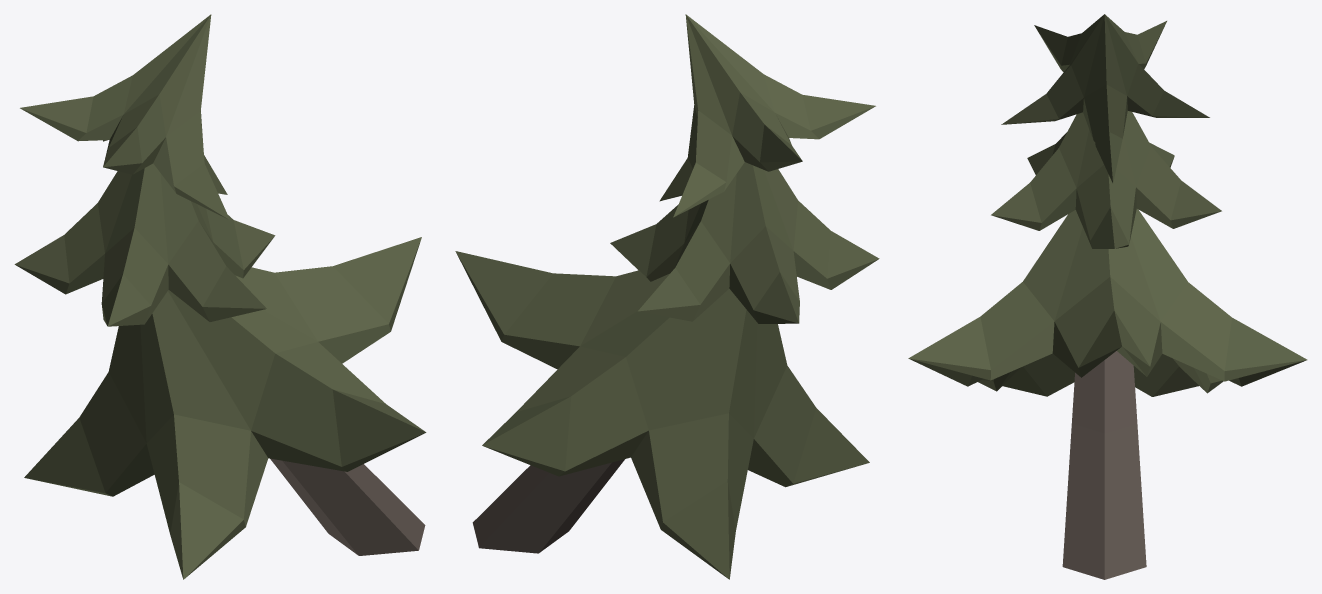
File: Pine3.fbx
3 renders of one model, left to right at view 1: azimuth 30°, elevation 25°; view 2: azimuth 150°, elevation 25°; view 3: azimuth 270°, elevation 25°, orthographic. The views are drawn at different scales.
Visible parts, largest first — view 1: Pine3; view 2: Pine3; view 3: Pine3.
Part boxes in pixels (left/top/right/bottom): Pine3: left=14, top=14, right=426, bottom=579; Pine3: left=455, top=14, right=879, bottom=579; Pine3: left=908, top=14, right=1307, bottom=579.
Size of the model in its own units: 8.35 by 11.93 by 9.05.
